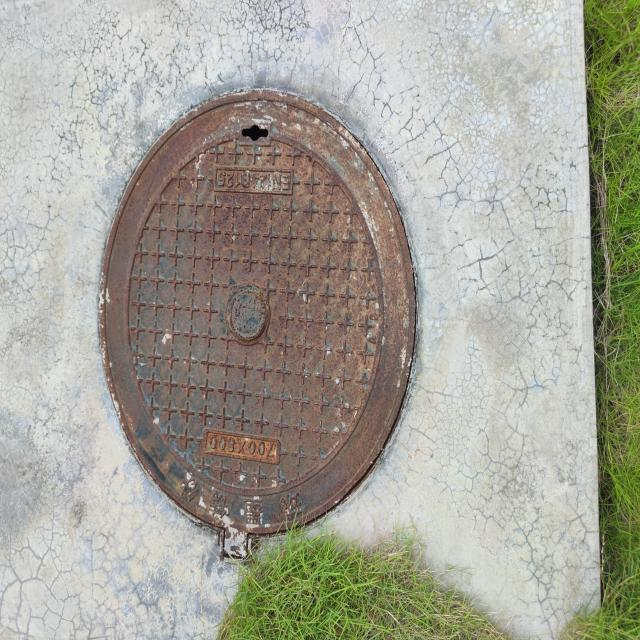Good: (95, 82, 429, 568)
